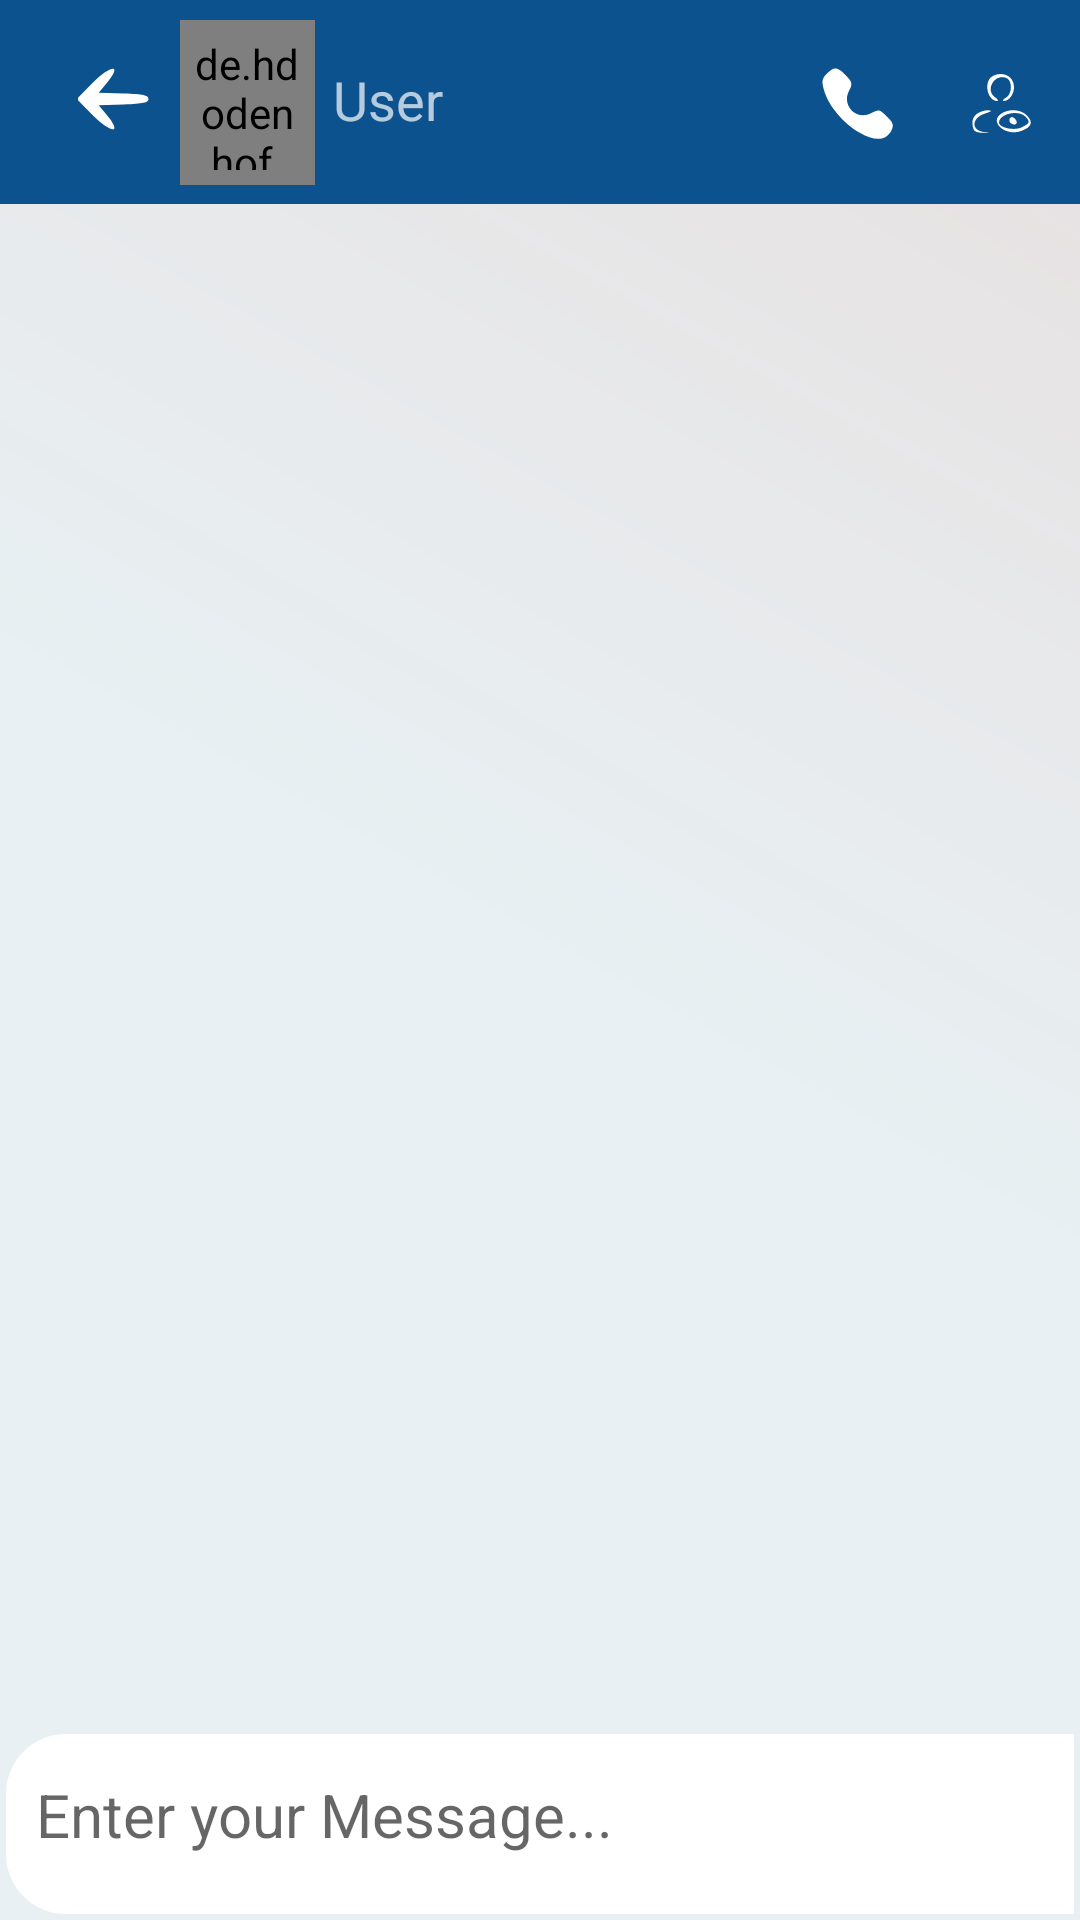

Locate icon controls on the screen. Image size 1080*1920, boxes as region(x1, y1, x2, y2).
arrow left: region(78, 68, 149, 130)
phone call: region(822, 68, 893, 139)
profile view: region(972, 74, 1031, 133)
